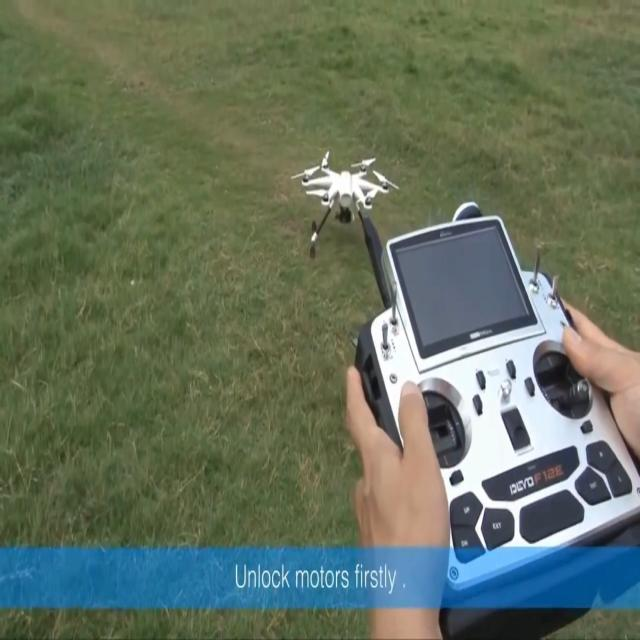drone: (290, 149, 399, 259)
